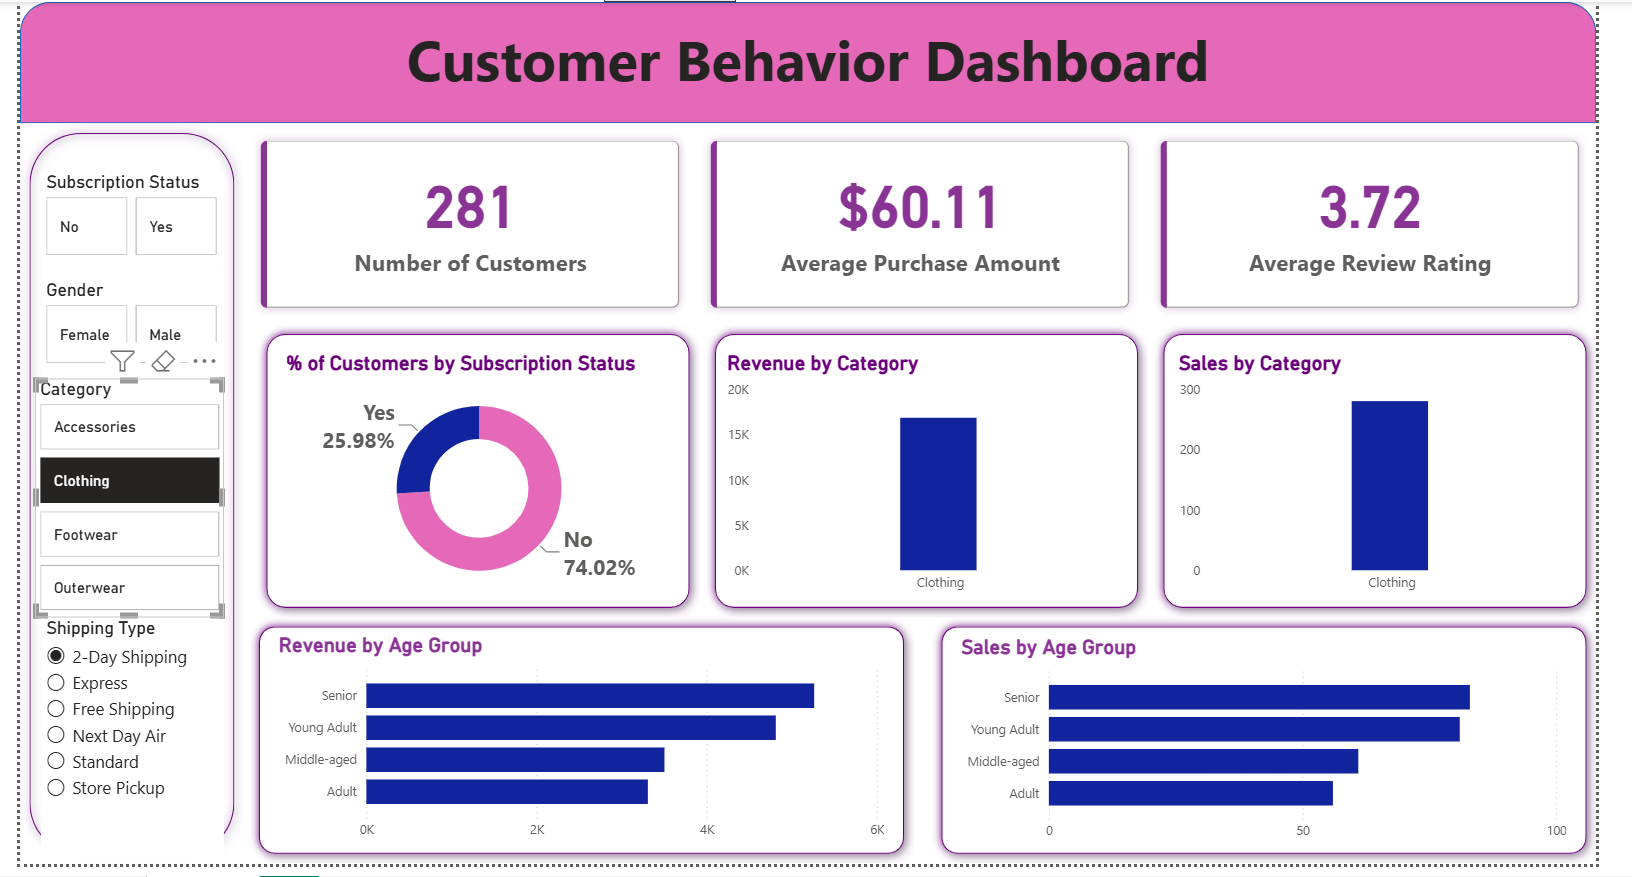

This screenshot's page, from the dashboard's own definition file:
{"tool":"powerbi","page":{"name":"Page 1","canvas":[1500,820],"ordinal":0},"visuals":[{"type":"cardVisual","fields":{"Data":["public customer.Number of Customers","public customer.Average Purchase Amount","public customer.Average Review Rating"]},"box":[212.9,115.3,1286.5,191.6],"z":2000},{"type":"shape","box":[218.3,585.6,631.7,234.2],"z":2500,"group":"g1"},{"type":"shape","box":[0,0,1499.4,115.3],"z":3000},{"type":"textbox","box":[0,12.4,1499.4,102.9],"z":4000},{"type":"shape","box":[225.4,307,420.5,278.6],"z":5000},{"type":"donutChart","title":"% of Customers by Subscription Status","fields":{"Category":["public customer.subscription_status"],"Y":["CountNonNull(public customer.customer_id)"]},"box":[248.4,331.8,376.2,237.8],"z":6000},{"type":"shape","box":[1078.9,307,420.5,278.6],"z":7000},{"type":"shape","box":[652.1,307,420.5,278.6],"z":8000},{"type":"clusteredColumnChart","title":"Revenue by Category","fields":{"Y":["Sum(public customer.purchase_amount)"],"Category":["public customer.category"]},"box":[667.2,331.8,385.1,237.8],"z":9000},{"type":"clusteredColumnChart","title":"Sales by Category","fields":{"Y":["CountNonNull(public customer.customer_id)"],"Category":["public customer.category"]},"box":[1096.6,331.8,385.1,237.8],"z":10000},{"type":"shape","box":[0,115.6,212.9,704.5],"z":11000},{"type":"advancedSlicerVisual","fields":{"Values":["public customer.subscription_status"]},"box":[19.5,161.5,173.9,85.2],"z":12000},{"type":"advancedSlicerVisual","fields":{"Values":["public customer.gender"]},"box":[19.5,264.4,173.9,85.2],"z":13000},{"type":"advancedSlicerVisual","fields":{"Values":["public customer.category"]},"box":[13.6,358.6,180.1,227],"z":14000},{"type":"listSlicer","fields":{"Values":["public customer.shipping_type"]},"box":[19.7,585.6,174,234.5],"z":15000},{"type":"shape","box":[867.7,585.6,631.7,234.2],"z":16000},{"type":"clusteredBarChart","title":"Sales by Age Group","fields":{"Y":["CountNonNull(public customer.customer_id)"],"Category":["public customer.age_group"]},"box":[890.8,601.5,585.6,204.1],"z":17000},{"type":"clusteredBarChart","title":"Revenue by Age Group","fields":{"Y":["Sum(public customer.purchase_amount)"],"Category":["public customer.age_group"]},"box":[241.4,601.6,585.6,204.1],"z":17500,"group":"g1"},{"type":"group","id":"g1","title":"Group 1","box":[218.3,585.6,631.7,234.2],"z":17501}]}

Visuals, with their boxes in screenshot pixels (x1, y1, x2, y2), scaled from the page's 1500x820 canvas onto the 1632x877 screenshot:
cardVisual - public customer.Number of Customers x public customer.Average Purchase Amount: bbox=(232, 123, 1631, 328)
shape: bbox=(238, 626, 925, 876)
shape: bbox=(0, 0, 1631, 123)
textbox: bbox=(0, 13, 1631, 123)
shape: bbox=(245, 328, 703, 626)
"% of Customers by Subscription Status" donutChart: bbox=(270, 355, 680, 609)
shape: bbox=(1174, 328, 1631, 626)
shape: bbox=(709, 328, 1167, 626)
"Revenue by Category" clusteredColumnChart: bbox=(726, 355, 1145, 609)
"Sales by Category" clusteredColumnChart: bbox=(1193, 355, 1612, 609)
shape: bbox=(0, 124, 232, 876)
advancedSlicerVisual - public customer.subscription_status: bbox=(21, 173, 210, 264)
advancedSlicerVisual - public customer.gender: bbox=(21, 283, 210, 374)
advancedSlicerVisual - public customer.category: bbox=(15, 384, 211, 626)
listSlicer - public customer.shipping_type: bbox=(21, 626, 211, 876)
shape: bbox=(944, 626, 1631, 876)
"Sales by Age Group" clusteredBarChart: bbox=(969, 643, 1606, 862)
"Revenue by Age Group" clusteredBarChart: bbox=(263, 643, 900, 862)
"Group 1" group: bbox=(238, 626, 925, 876)
